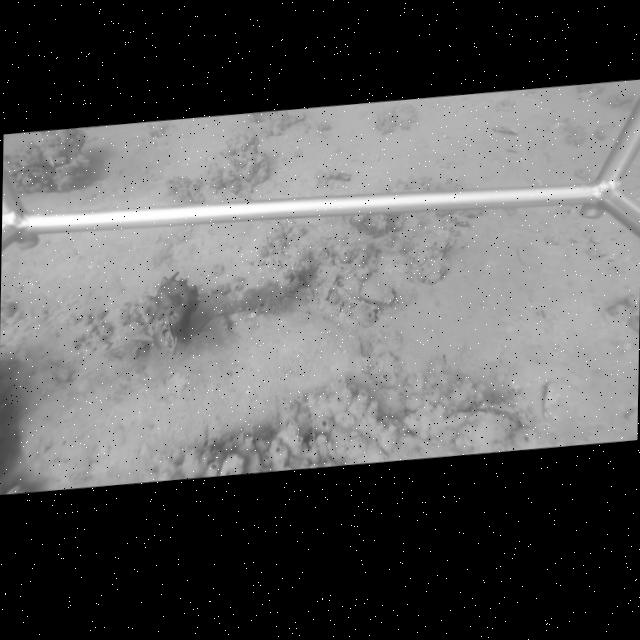Oyster-Closed: (413, 228, 450, 286), (359, 279, 396, 304), (320, 265, 340, 301), (303, 285, 317, 316)
Oyster-Indeterminate: (462, 409, 520, 446)
